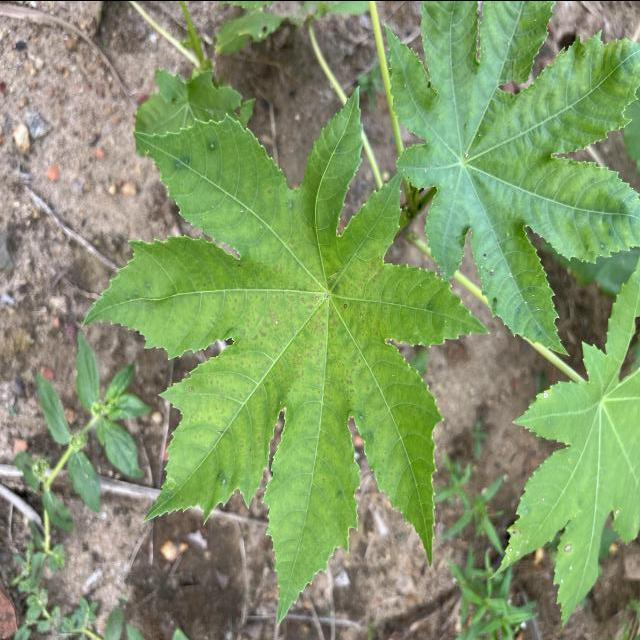Ricinus communis linn: (78, 70, 496, 630), (380, 0, 640, 361)
